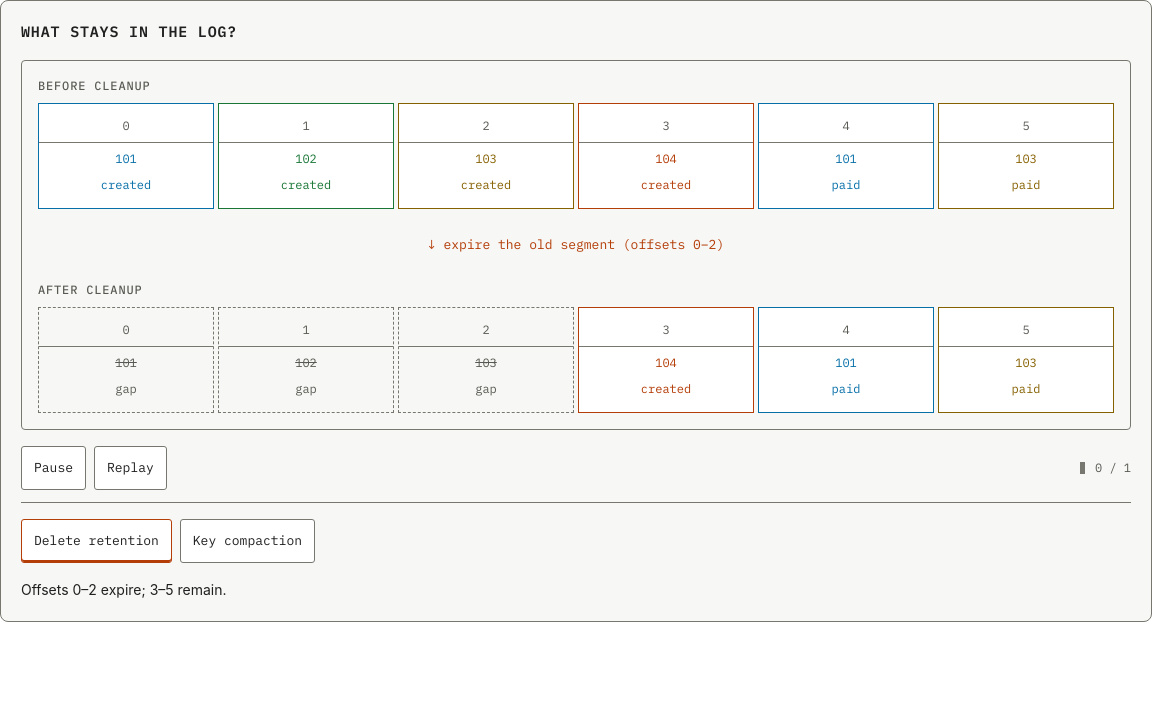
shows compaction gaps at original offsets and exposes the selected cleanup policy
Click the button "Key compaction" at [247, 541], box x1=180 y1=519 x2=315 y2=563
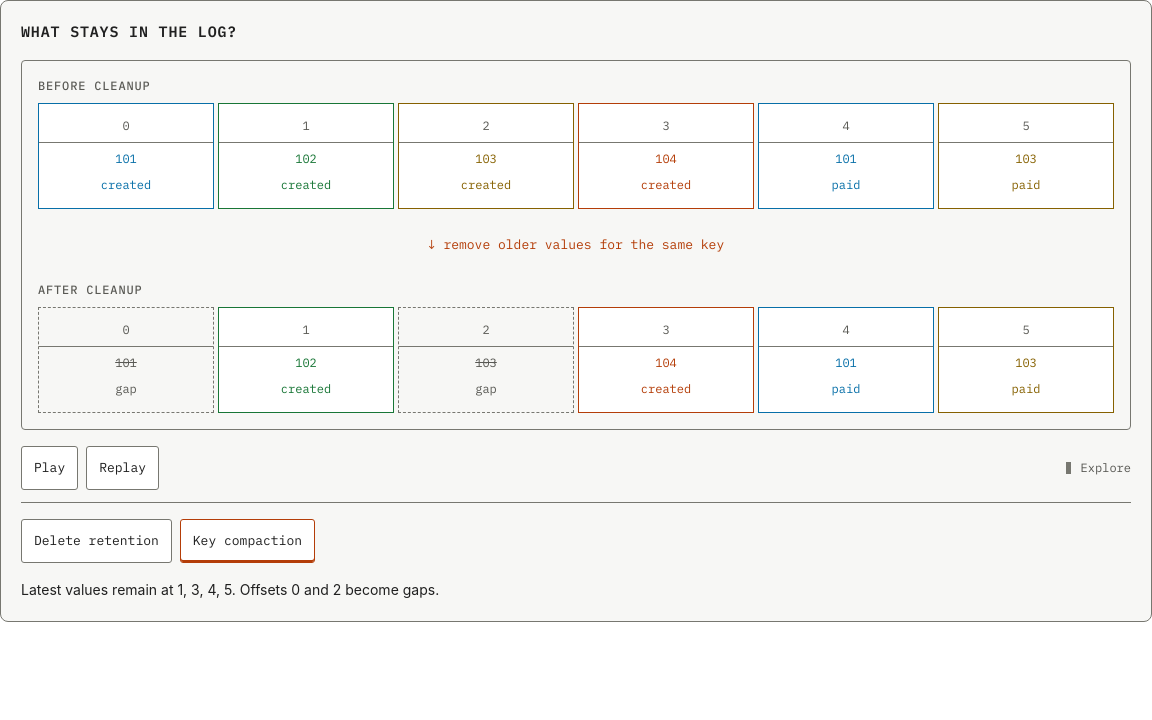
Check: the element named "Offset 0, key 101, removed" is shown, box x1=38 y1=307 x2=214 y2=413
Check: the message shows "become gaps", box x1=21 y1=581 x2=439 y2=598
